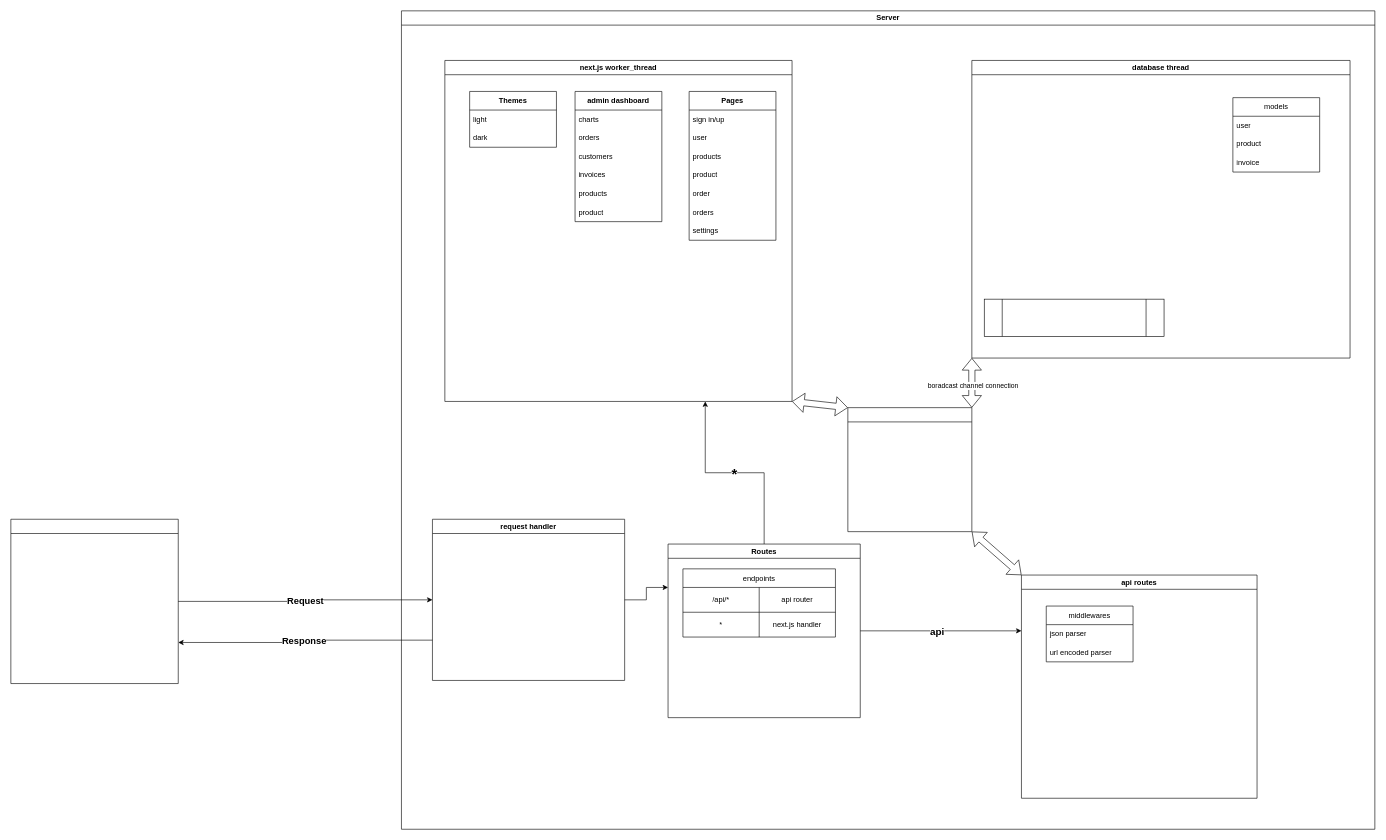
Image size: 1386x840. Some labels were removed from this diagram. The centre of each missing label's shape, as x and y in pixels:
broadcast channel provider: point (1074, 317)
browser: point (94, 601)
db service provider: point (909, 469)
